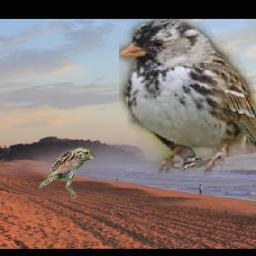Sparrow: (119, 19, 256, 176), (39, 146, 97, 199)
